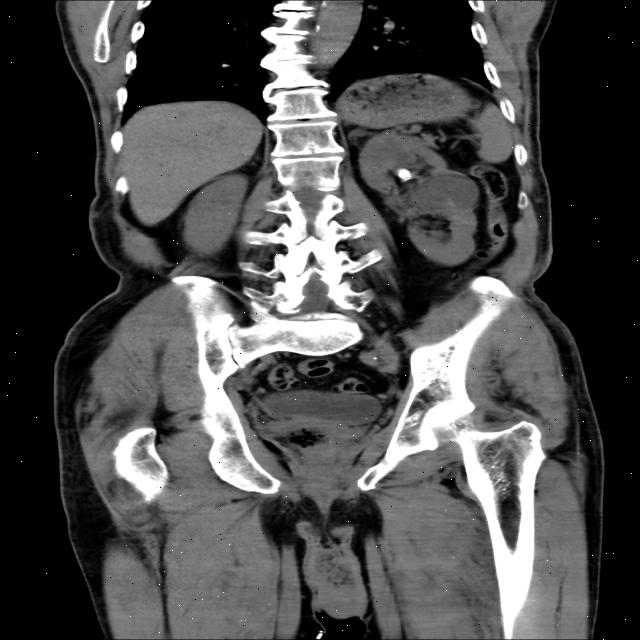kidneystone: (398, 169, 411, 181)
